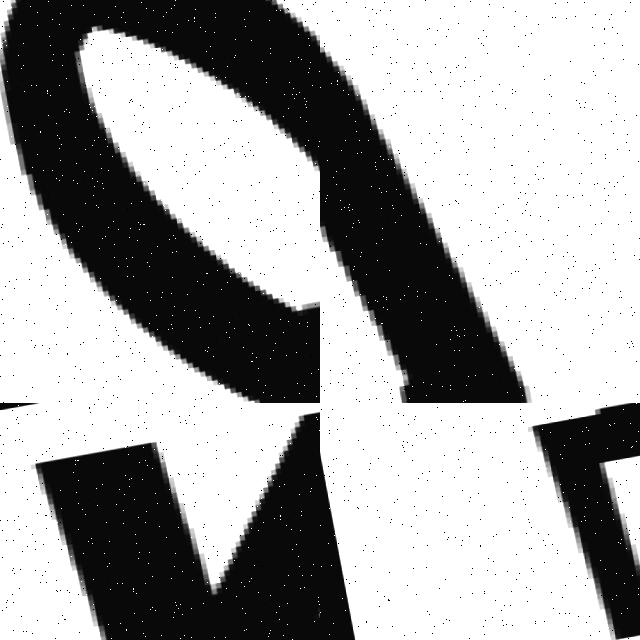0: (0, 0, 320, 403)
5: (435, 403, 640, 640)
J: (320, 0, 571, 403)
K: (17, 403, 320, 640)
